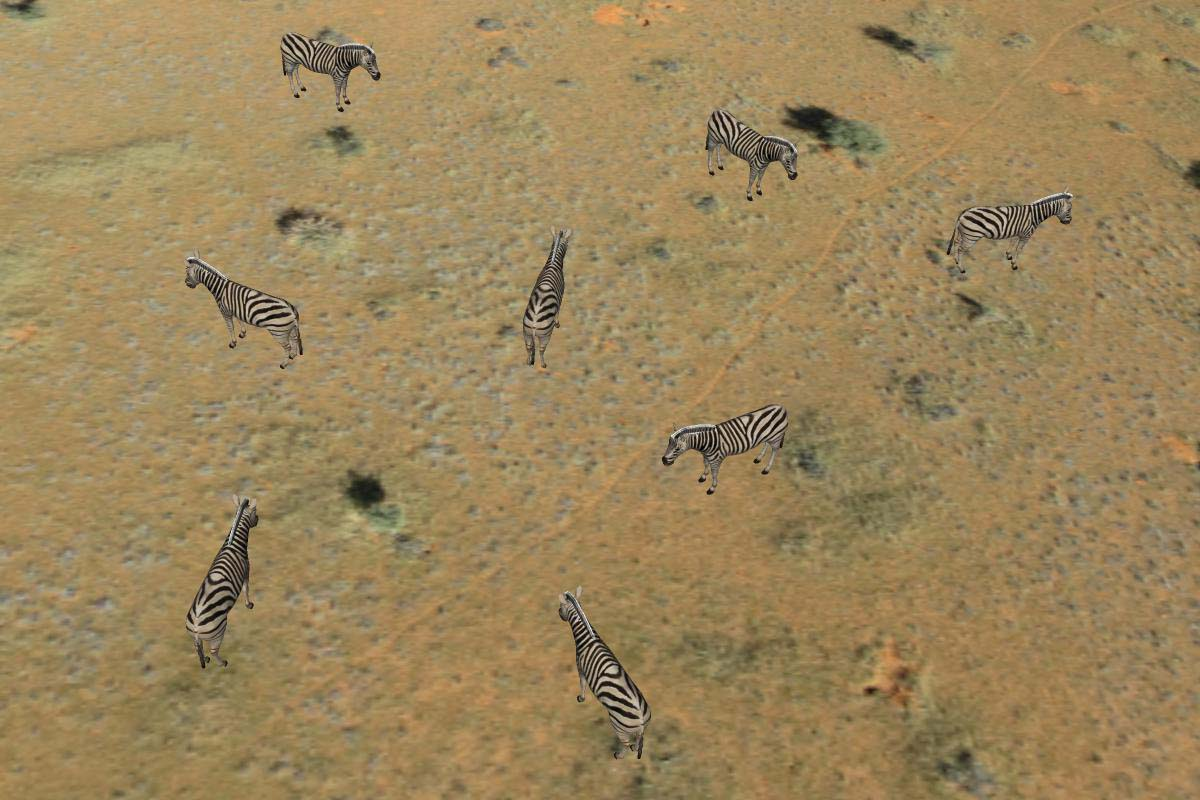zebra: (542, 587, 669, 756), (178, 485, 273, 677), (173, 244, 311, 365), (653, 402, 792, 500), (950, 175, 1077, 281), (700, 94, 803, 210), (277, 19, 382, 115), (513, 217, 577, 365)
